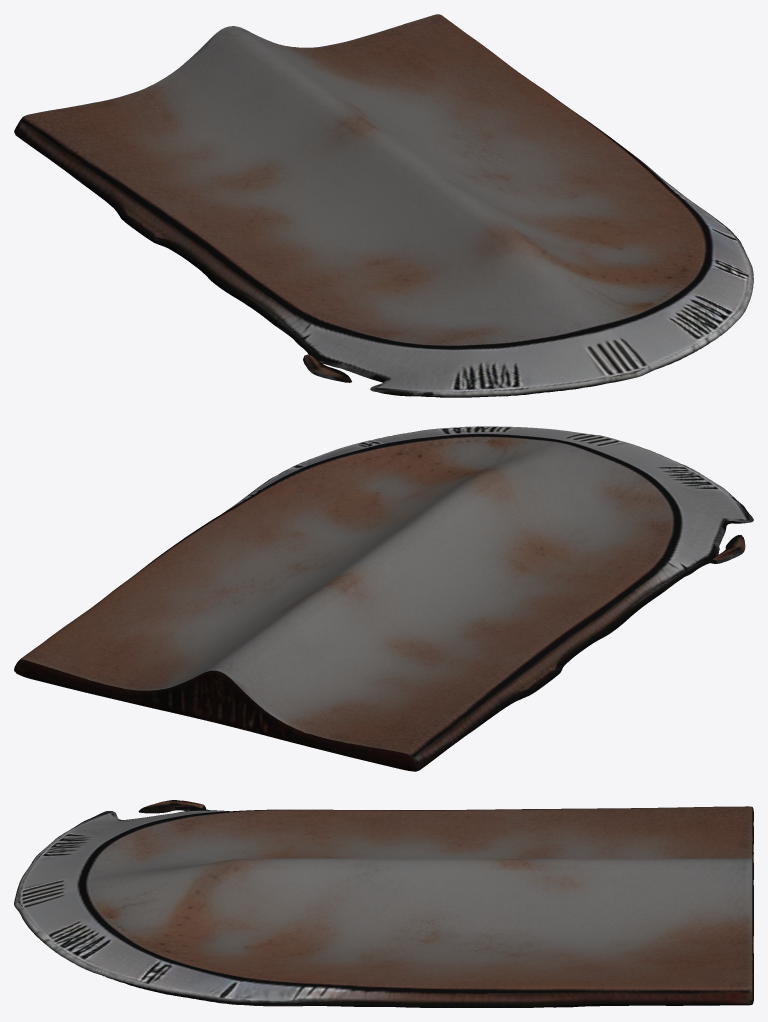
The model's file is catalog-weapon-mod-2-2.glb.
3 views of the same model, one above another, from view 1: azimuth 30°, elevation 25°; view 2: azimuth 150°, elevation 25°; view 3: azimuth 270°, elevation 25° (orthographic). The views are drawn at different scales.
Parts seen in each view (by area): view 1: tmp6hru7wv2.ply; view 2: tmp6hru7wv2.ply; view 3: tmp6hru7wv2.ply.
Boxes of the visible parts, x1,y1,x2,y2 form: tmp6hru7wv2.ply: [14, 14, 753, 397]; tmp6hru7wv2.ply: [14, 426, 753, 771]; tmp6hru7wv2.ply: [14, 800, 753, 1007].
Bounding box in the file's own units: 1.27 × 0.1522 × 1.95.
1 material, 1 textured.
